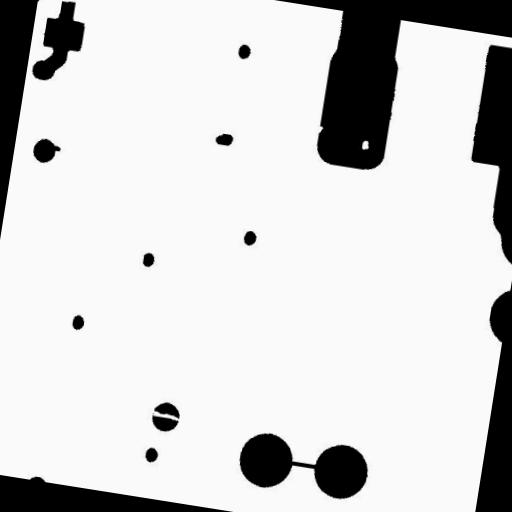copper: (206, 123, 242, 154)
mousebite: (305, 116, 331, 141)
open: (142, 400, 188, 430), (48, 0, 88, 21)
pin-hole: (352, 131, 378, 158)
short: (279, 452, 340, 480)
spur: (40, 134, 69, 161)
